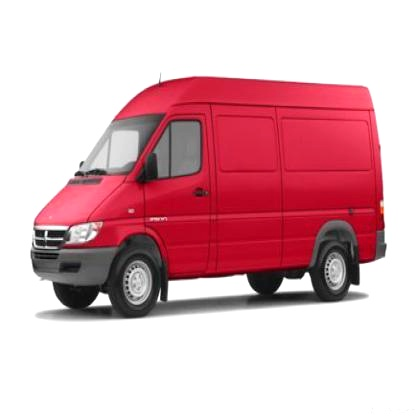Vehicle: (31, 75, 389, 320)
